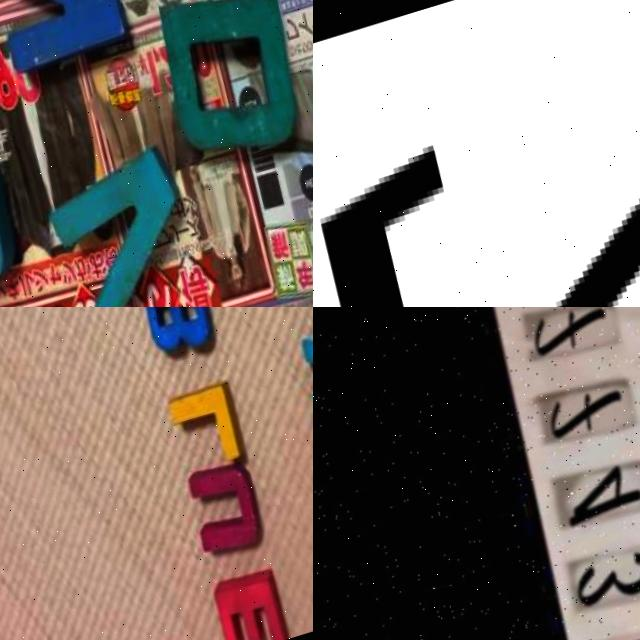3: (553, 521, 640, 630)
4: (536, 435, 640, 548)
7: (313, 0, 640, 307), (525, 358, 640, 460), (508, 307, 628, 376)
B: (136, 307, 226, 365)
D: (148, 0, 313, 174)
E: (214, 567, 301, 640)
J: (0, 129, 42, 307)
L: (165, 376, 254, 476)
N: (0, 0, 143, 84)
U: (188, 456, 277, 565)
V: (36, 137, 217, 307)
